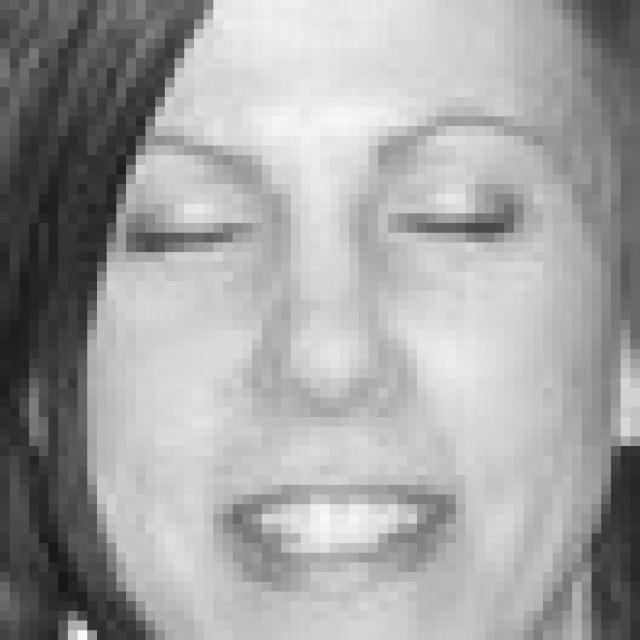real: (65, 10, 608, 608), (102, 157, 567, 289)
